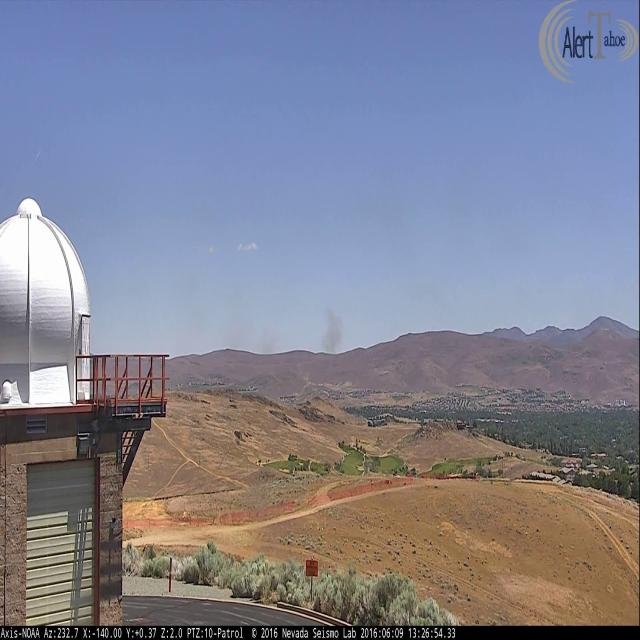smoke: (222, 284, 281, 356), (318, 300, 345, 353)
